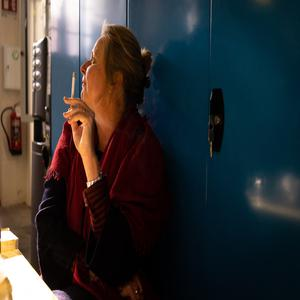cigarette: (69, 70, 76, 115)
